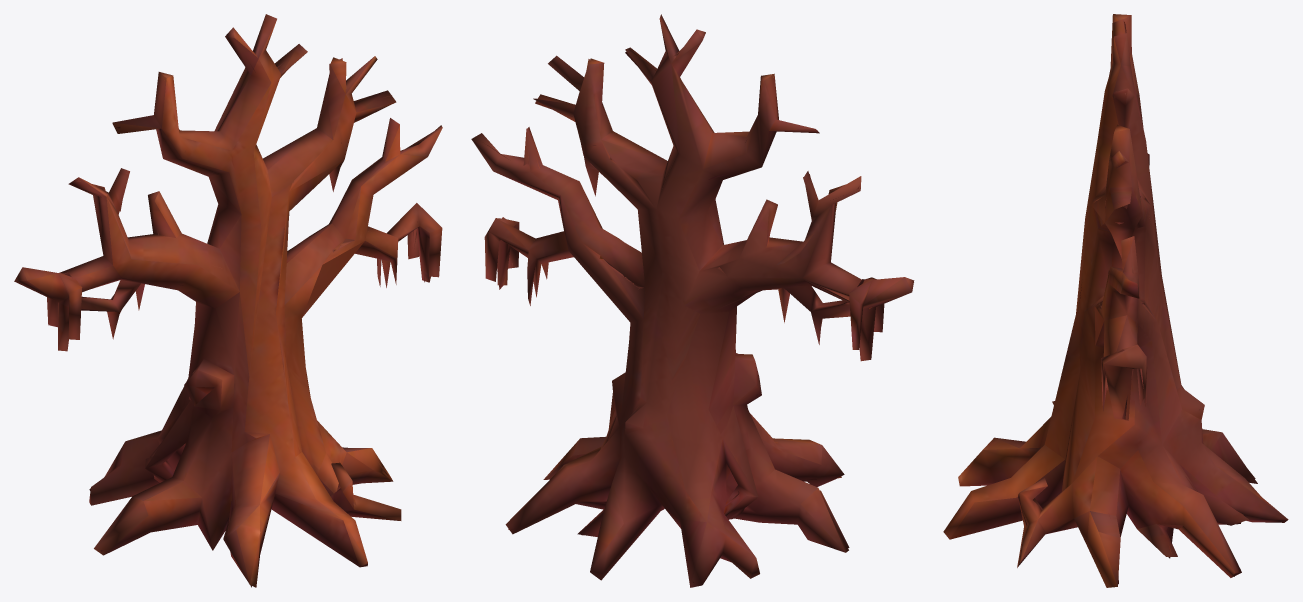
The model's file is lg-dead-tree-gnarled.glb.
The picture shows the model from 3 angles, left to right: view 1: azimuth 30°, elevation 25°; view 2: azimuth 150°, elevation 25°; view 3: azimuth 270°, elevation 25°; orthographic projection.
Parts seen in each view (by area): view 1: geometry_0; view 2: geometry_0; view 3: geometry_0.
Part boxes in pixels (box(x1,y1,x2,y2)): geometry_0: box(14, 14, 442, 587); geometry_0: box(471, 14, 914, 587); geometry_0: box(943, 14, 1288, 587).
Bounding box in the file's own units: 0.9163 × 1 × 0.6262.
Materials: 1 (1 with a texture image).
